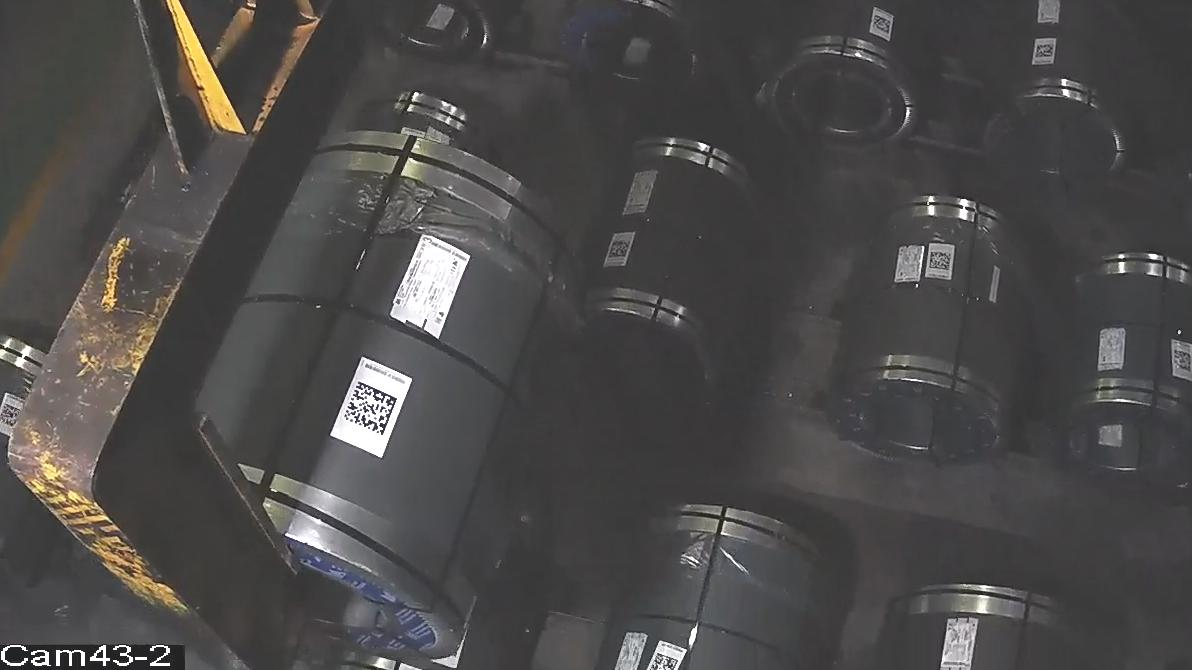data matrix: (340, 379, 400, 438), (647, 651, 681, 670), (929, 250, 955, 274), (606, 238, 633, 261), (1172, 347, 1192, 376), (870, 13, 894, 36), (1035, 43, 1057, 61)
